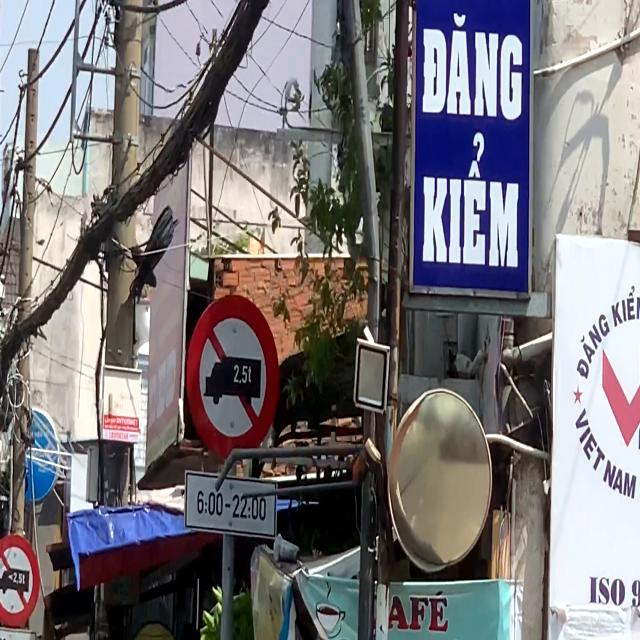P.106b: (185, 287, 279, 464), (0, 528, 41, 628)
